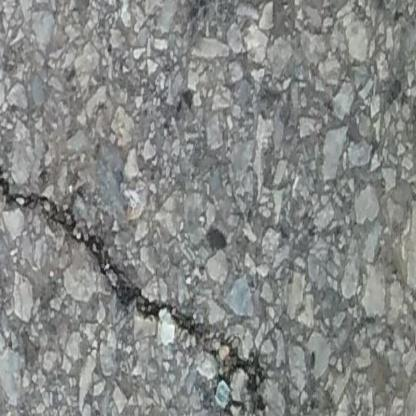Cracks: (0, 160, 288, 416)
